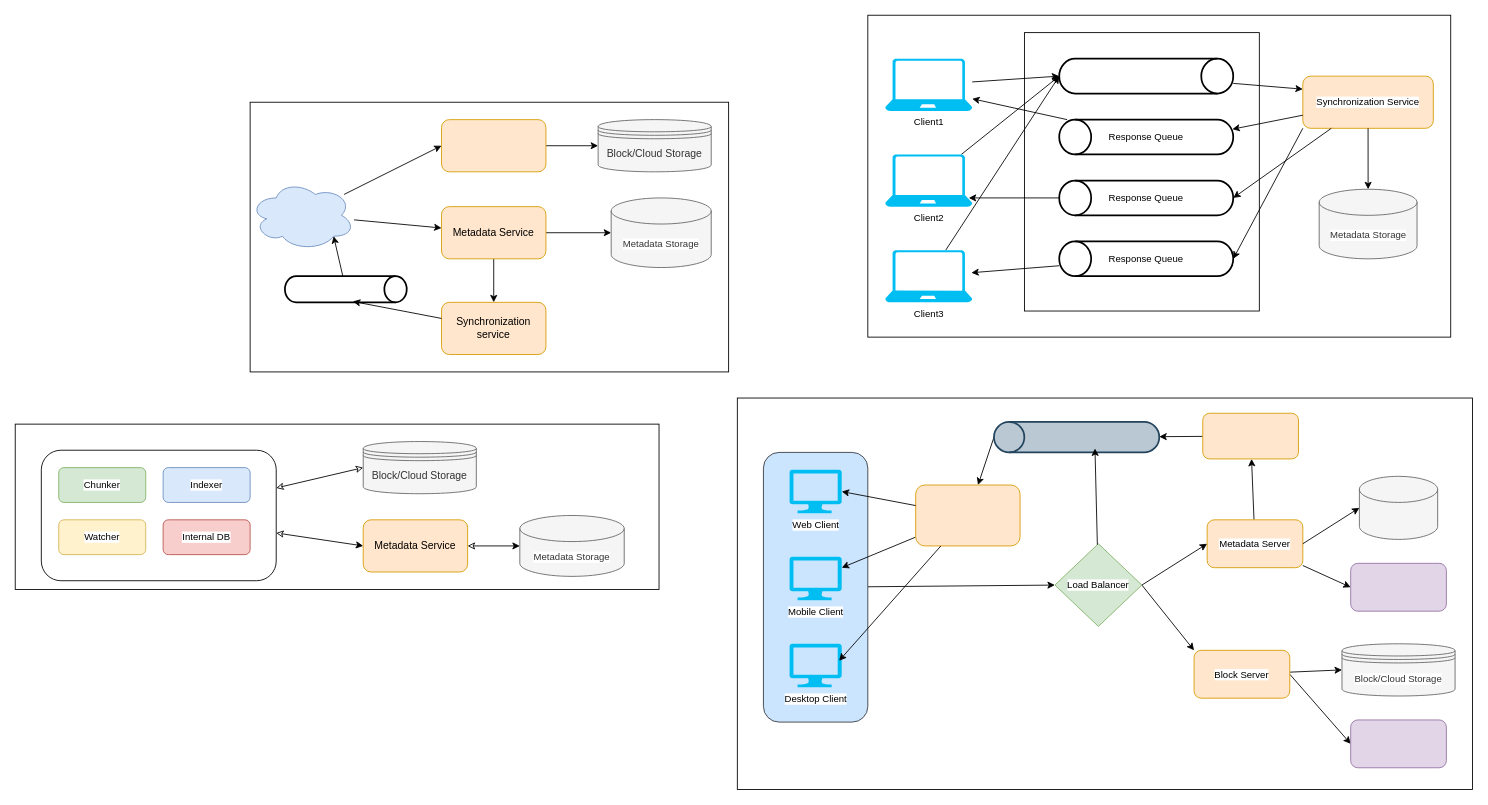
Image size: 1488x805. Some labels were removed from this diagram. The box of each missing label's shape, as (x1, y1, x2, y2) in pixels:
Block Service: (441, 119, 546, 172)
Block Storage Cache Server: (1350, 719, 1446, 768)
Clients: (249, 180, 355, 250)
Message Queue: (284, 275, 407, 303)
Metadata Cache Server: (1350, 562, 1446, 611)
Metadata DB: (1359, 475, 1438, 539)
Notification Server: (915, 484, 1020, 546)
Request Queue: (1058, 57, 1234, 94)
Synchronization Queue: (993, 421, 1160, 453)
Synchronization Server: (1202, 412, 1298, 459)
